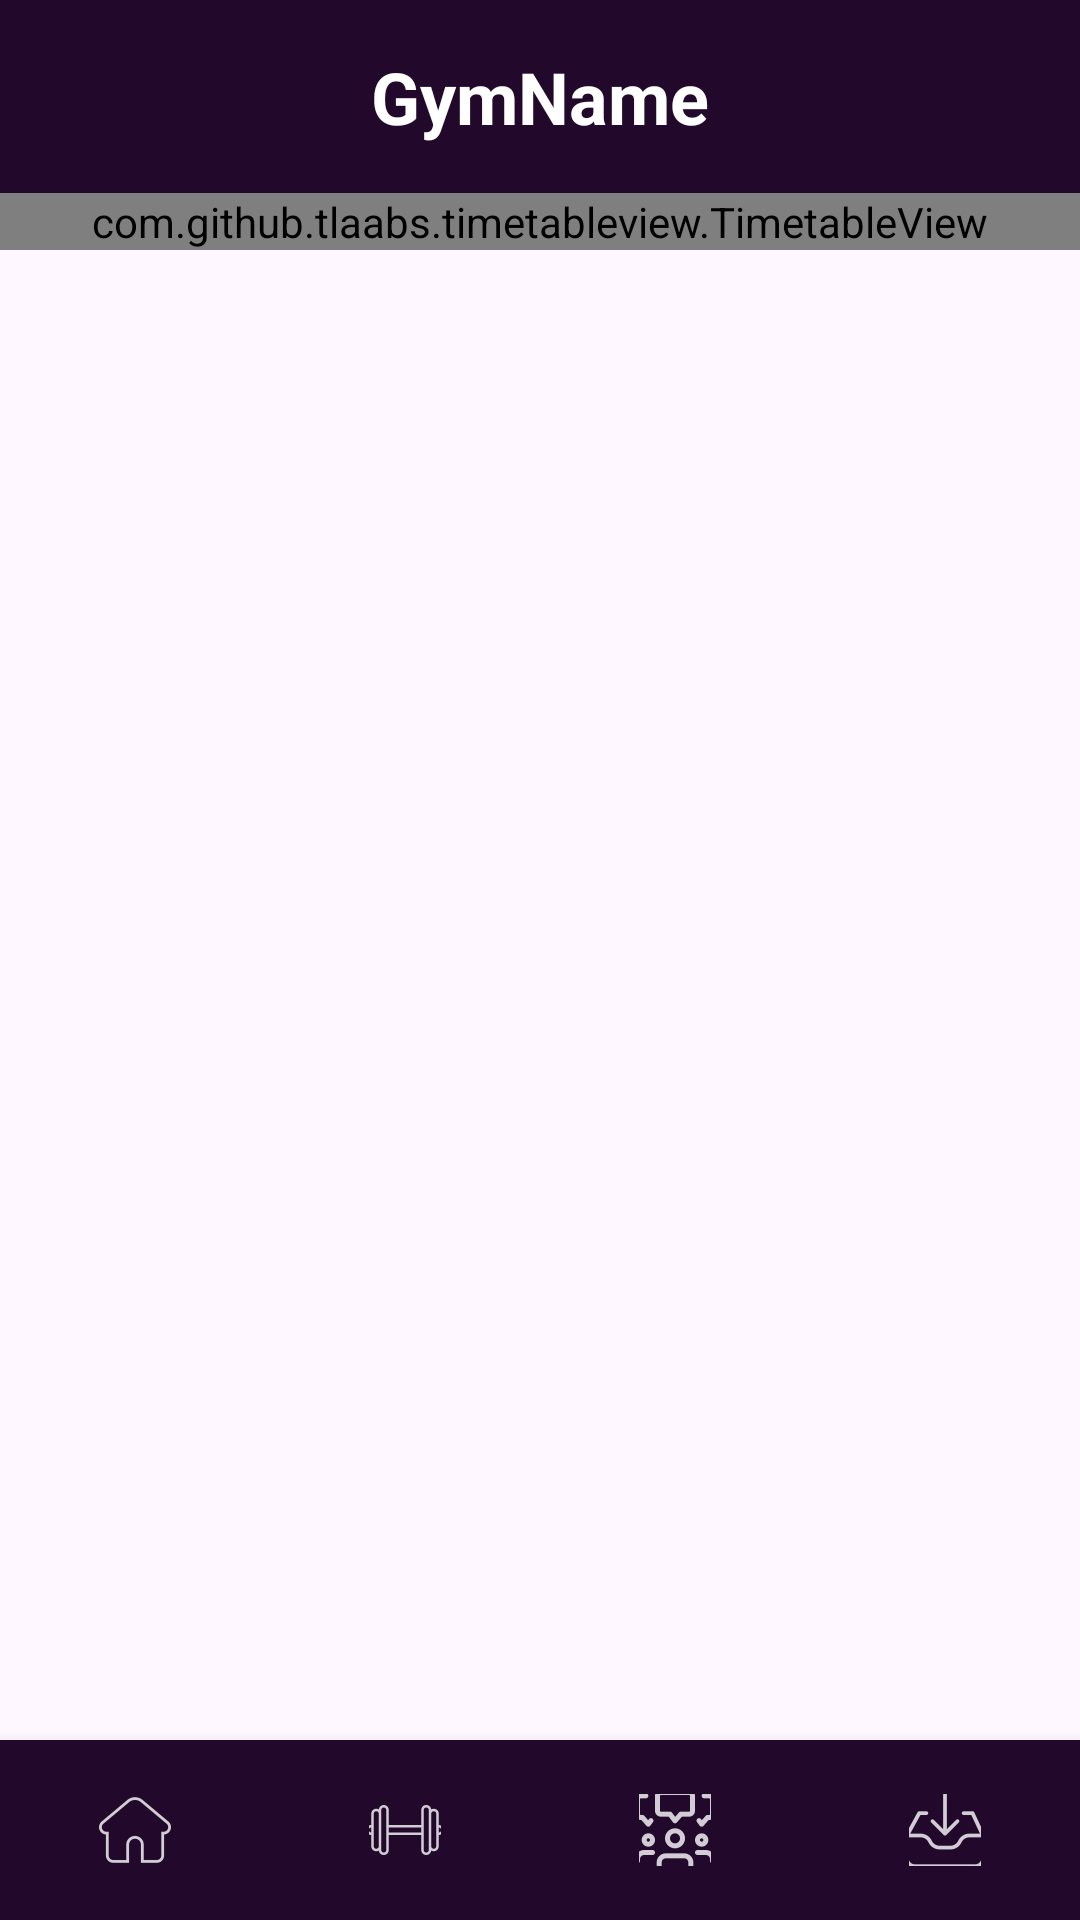

Screen size 1080 × 1920. Icon name, then its center in pixels as [x,y]:
forum: [675,1830]
home: [135,1830]
inbox: [945,1830]
workout: [405,1830]
